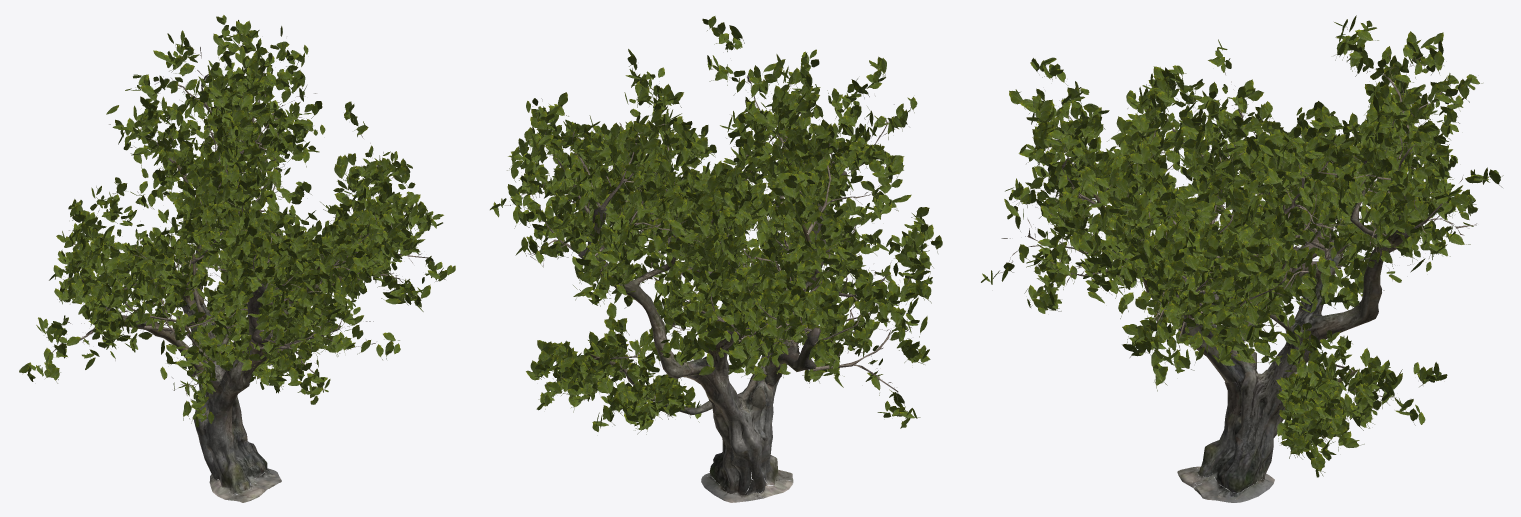
Rendered from island-tree-near.glb.
The picture shows the model from 3 angles, left to right: view 1: azimuth 30°, elevation 25°; view 2: azimuth 150°, elevation 25°; view 3: azimuth 270°, elevation 25°; orthographic projection. The views are drawn at different scales.
Parts seen in each view (by area): view 1: Foliage, Bark, Branches; view 2: Foliage, Bark, Branches; view 3: Foliage, Bark, Branches.
Part boxes in pixels (box(x1,y1,x2,y2)): Foliage: box(19, 15, 455, 427); Bark: box(81, 160, 342, 502); Branches: box(33, 21, 445, 413); Foliage: box(490, 16, 942, 434); Bark: box(578, 147, 847, 502); Branches: box(504, 27, 928, 424); Foliage: box(981, 15, 1503, 477); Bark: box(1093, 158, 1408, 502); Branches: box(998, 26, 1489, 441).
Size of the model in its own units: 4.84 by 5.11 by 4.91.
3 materials, 3 textured.
